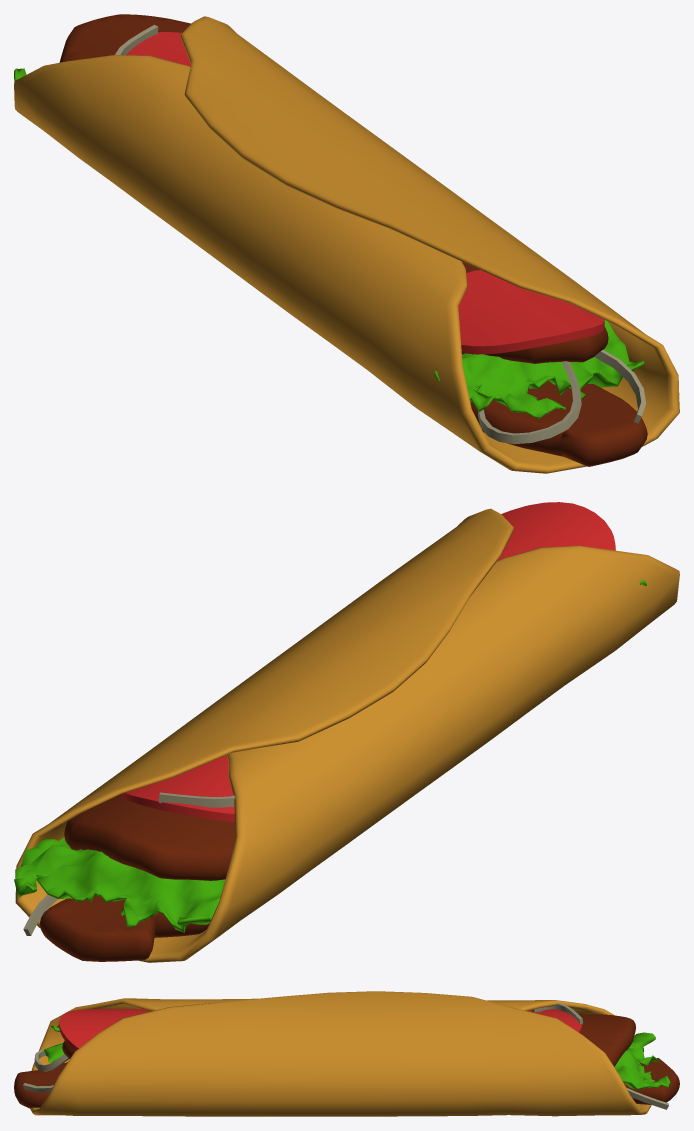
The picture shows the model from 3 angles, top to bottom: view 1: azimuth 30°, elevation 25°; view 2: azimuth 150°, elevation 25°; view 3: azimuth 270°, elevation 25°; orthographic projection. The views are drawn at different scales.
Visible parts, largest first — view 1: Circle001, Circle002, Line001, Line005, Line004, Line007, Line003, Circle003; view 2: Circle001, Line004, Line006, Line002, Circle002, Circle003, Line007; view 3: Circle001, Line004, Circle002, Line006, Line001, Line007, Line002, Circle003, Line005.
Boxes of the visible parts, box(x1,y1,x2,y2) form: Circle001: box(14, 16, 679, 473); Circle002: box(458, 270, 604, 354); Line001: box(470, 381, 647, 466); Line005: box(434, 320, 644, 418); Line004: box(59, 14, 190, 62); Line007: box(115, 25, 645, 444); Line003: box(462, 261, 608, 363); Circle003: box(114, 32, 190, 66); Circle001: box(15, 508, 679, 962); Line004: box(64, 794, 235, 880); Line006: box(14, 837, 225, 932); Line002: box(39, 894, 209, 961); Circle002: box(497, 502, 615, 560); Circle003: box(121, 755, 234, 822); Line007: box(23, 792, 235, 935); Circle001: box(30, 991, 651, 1116); Line004: box(578, 1014, 635, 1066); Circle002: box(59, 1009, 150, 1050); Line006: box(614, 1032, 670, 1089); Line001: box(14, 1062, 67, 1108); Line007: box(23, 1002, 668, 1109); Line002: box(624, 1058, 679, 1104); Circle003: box(527, 1009, 582, 1033); Line005: box(44, 1025, 64, 1063).
Bounding box in the file's own units: 0.4789 × 0.2839 × 2.
